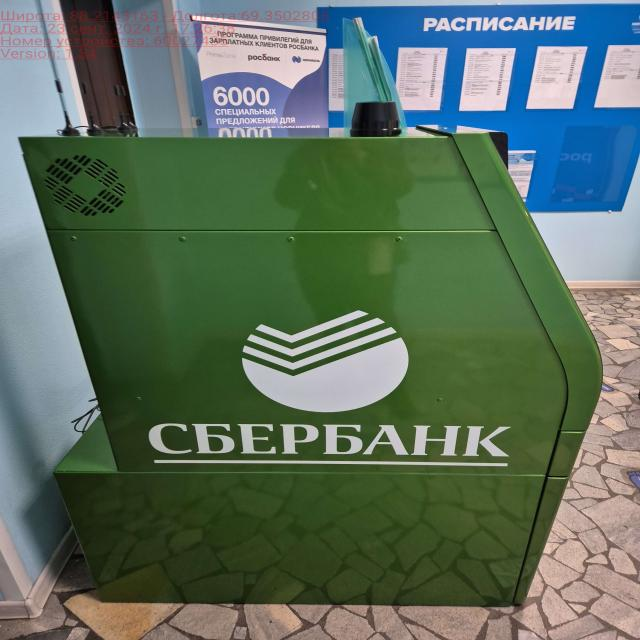bank: (17, 126, 606, 609)
